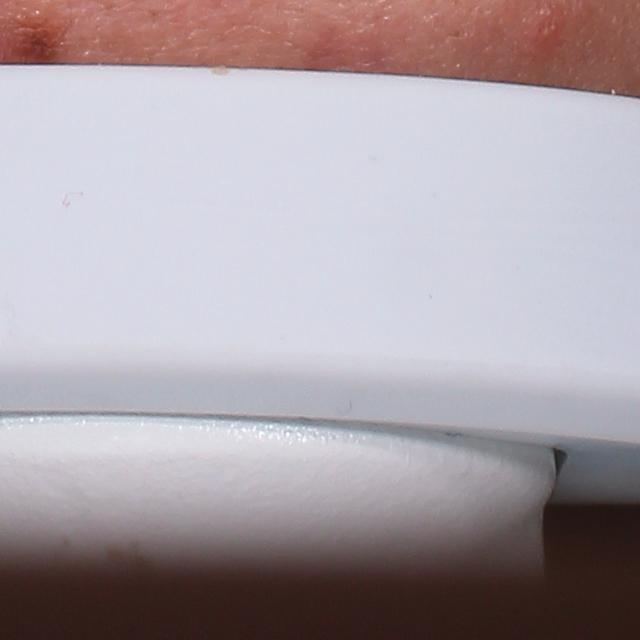papule: (525, 12, 563, 52)
